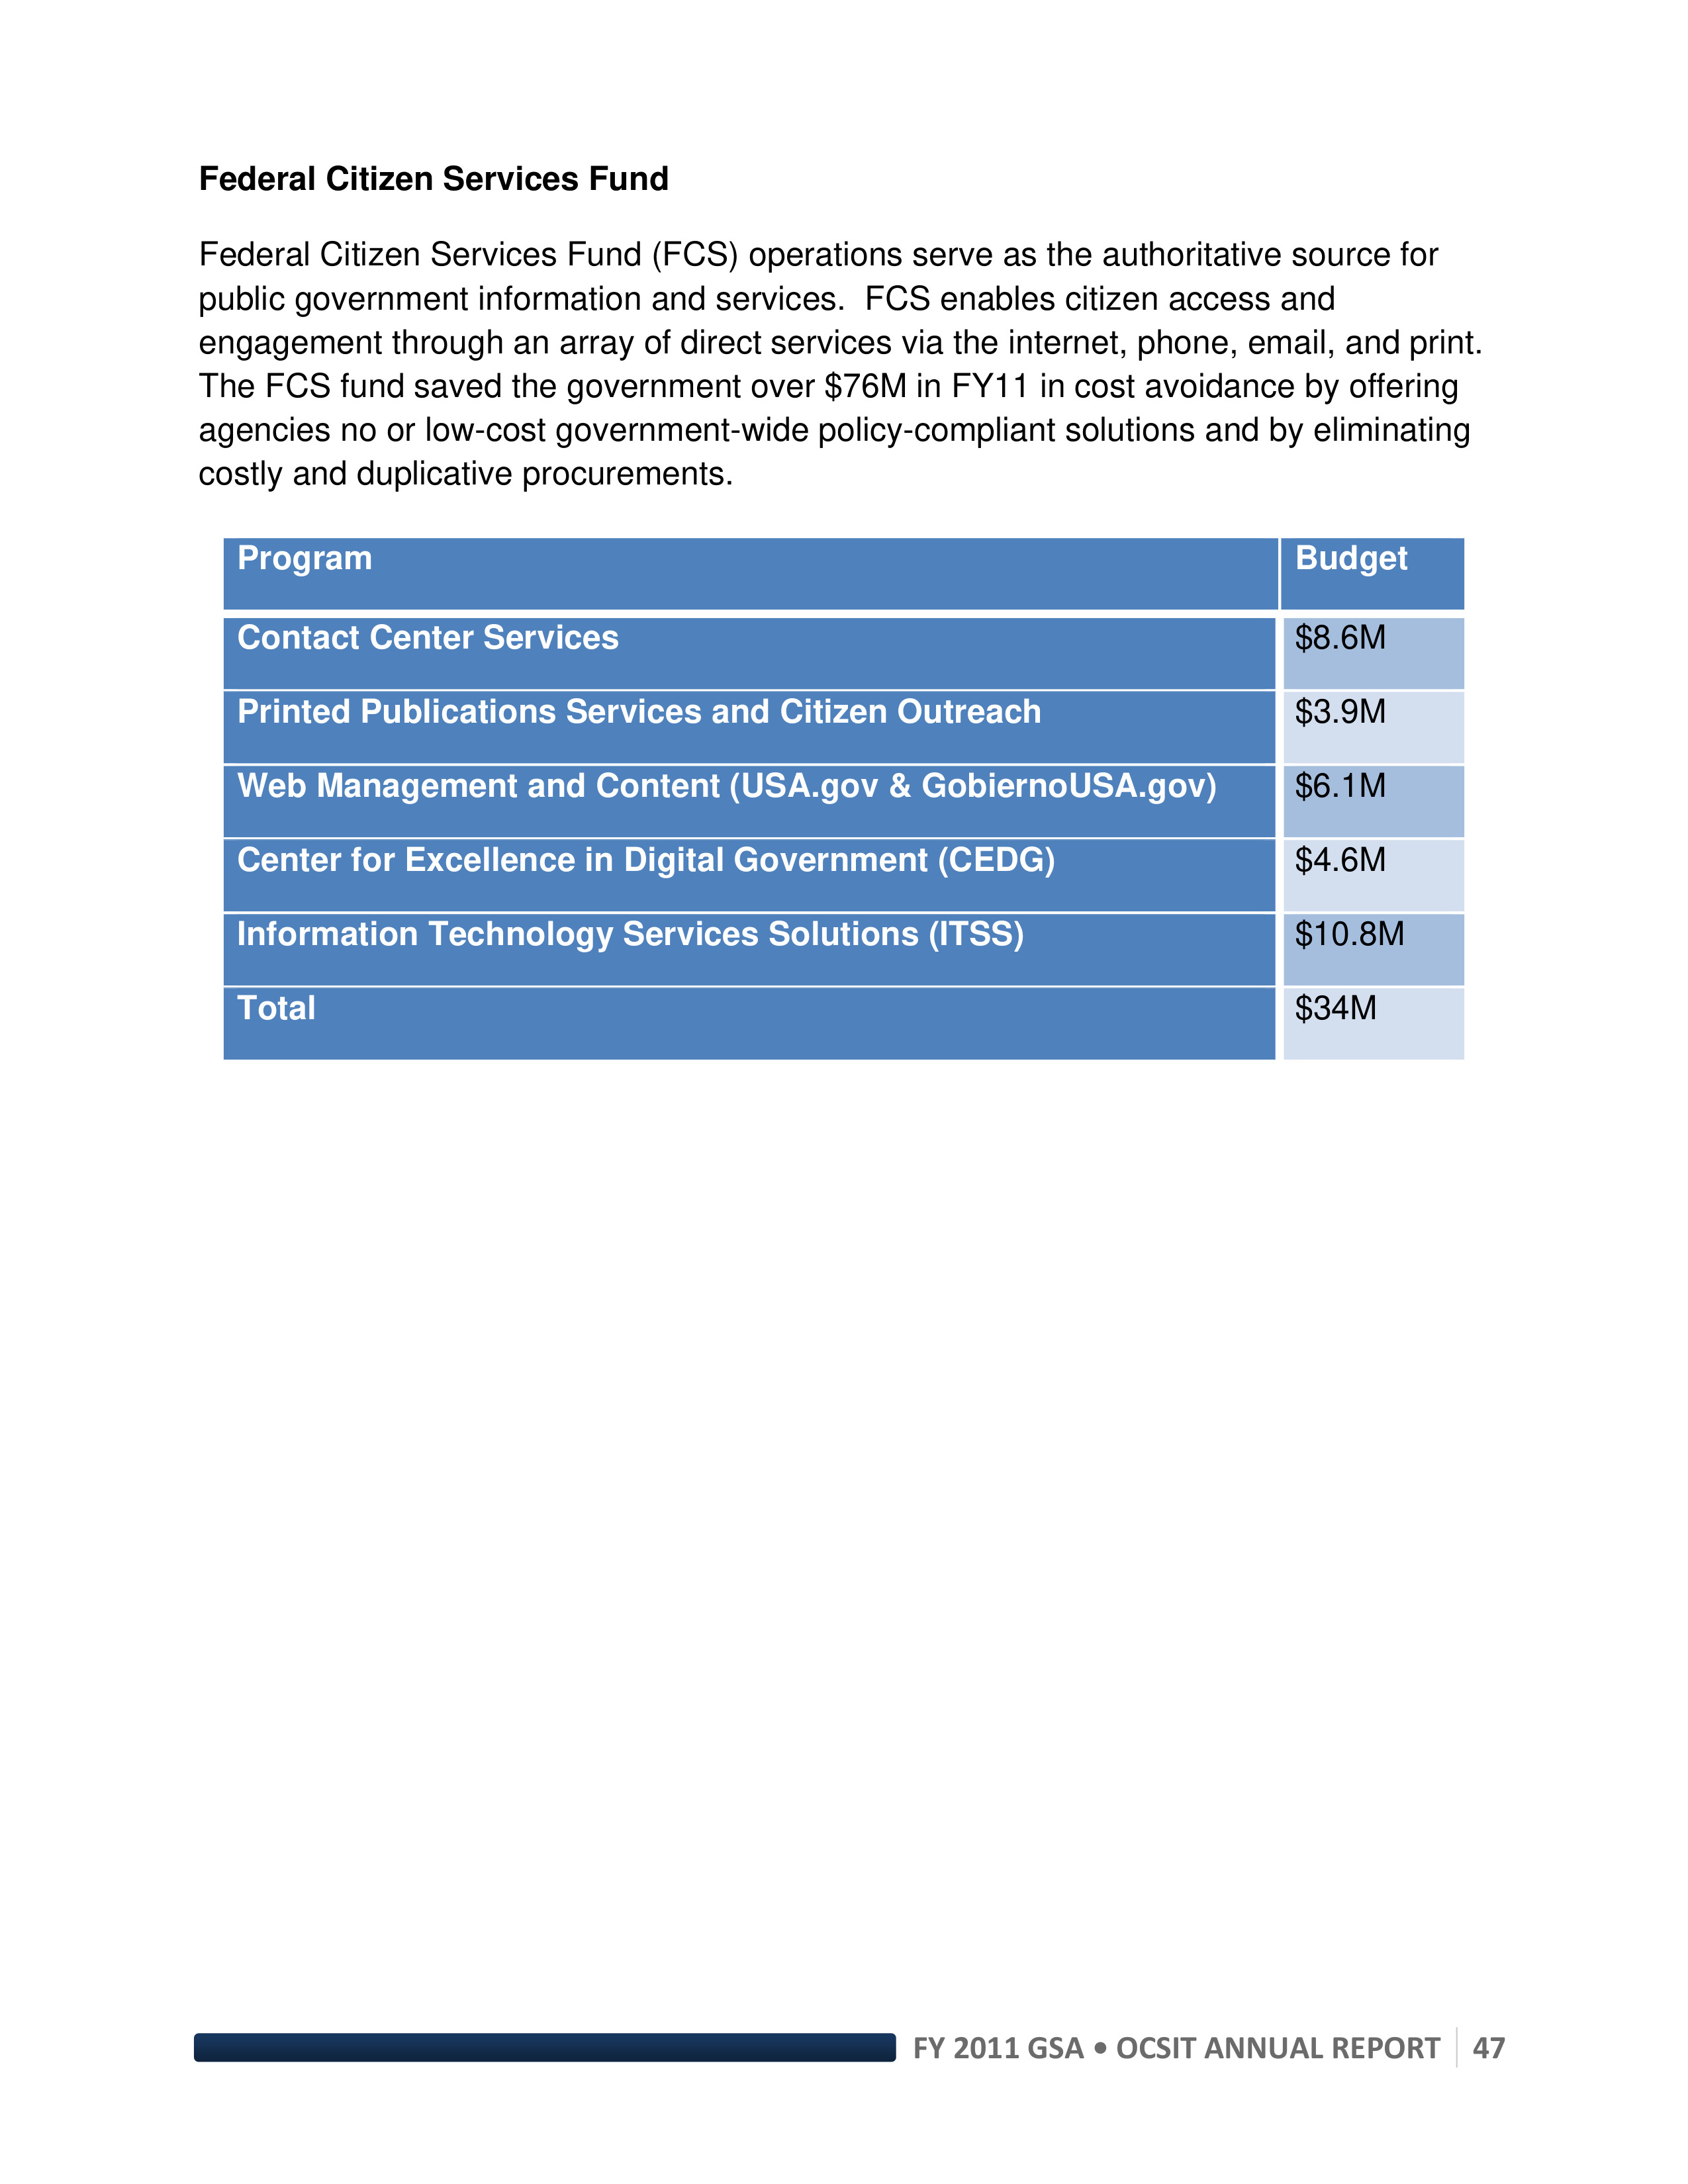table: (236, 534, 1408, 1030)
